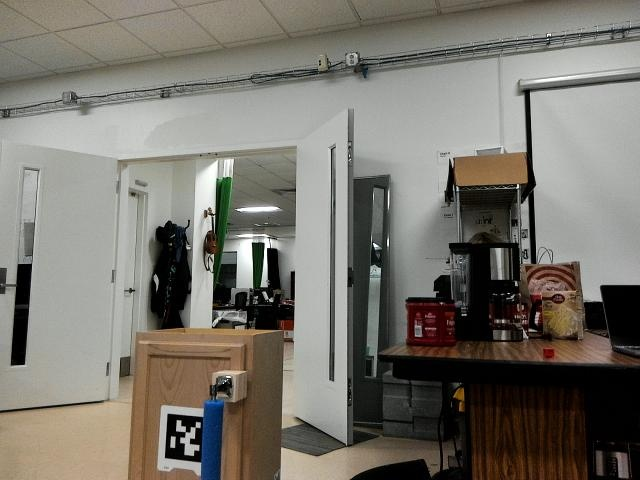noodle_handle: (201, 387, 223, 480)
